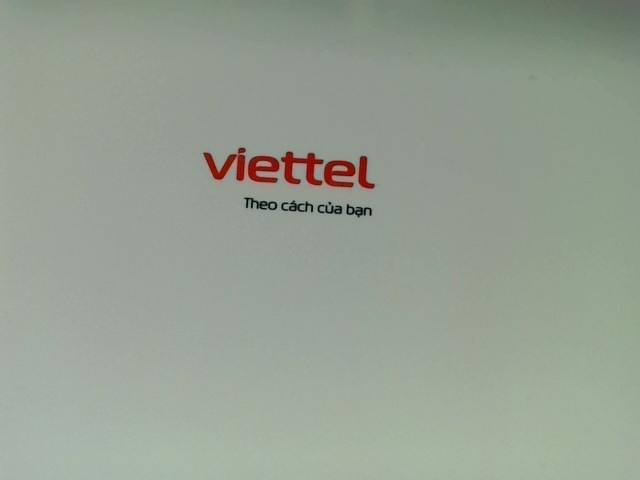AY_Viettel: (202, 146, 376, 224)
